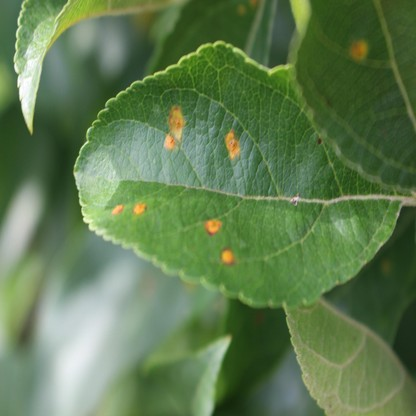frogeye_leaf_spot: (317, 138, 322, 144)
rust: (165, 105, 184, 147), (349, 38, 368, 59), (226, 131, 239, 159), (221, 247, 234, 267), (204, 220, 223, 232), (134, 201, 148, 215), (380, 260, 391, 275), (110, 202, 122, 213), (236, 3, 245, 16), (252, 0, 256, 6)
